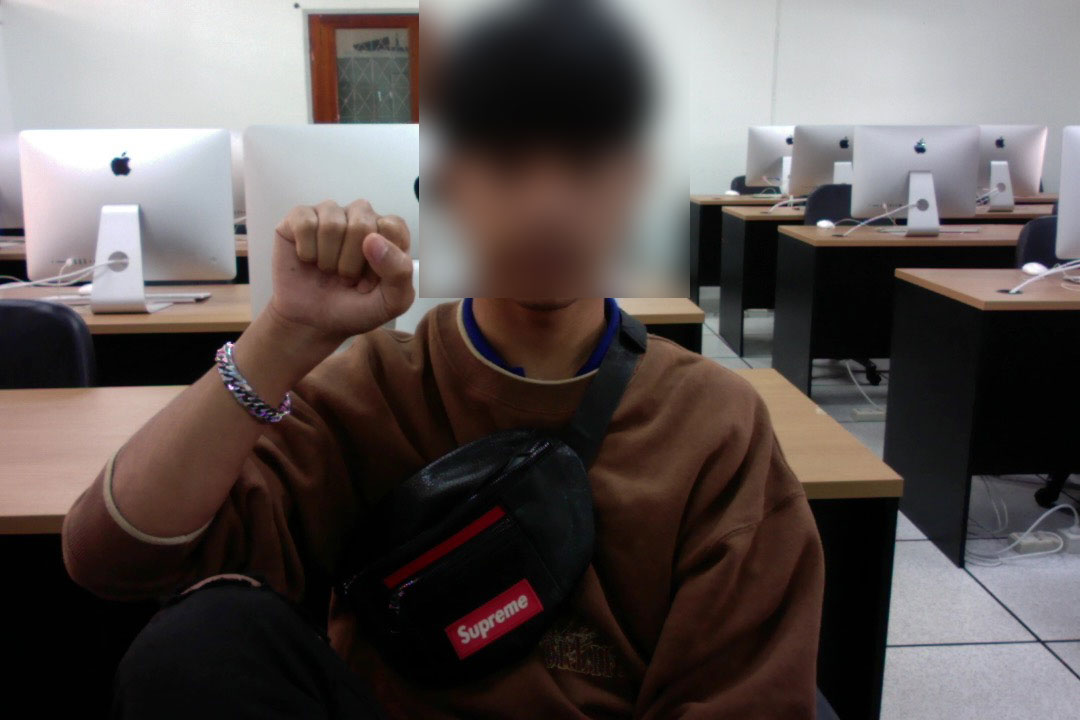sor: (262, 193, 421, 356)
